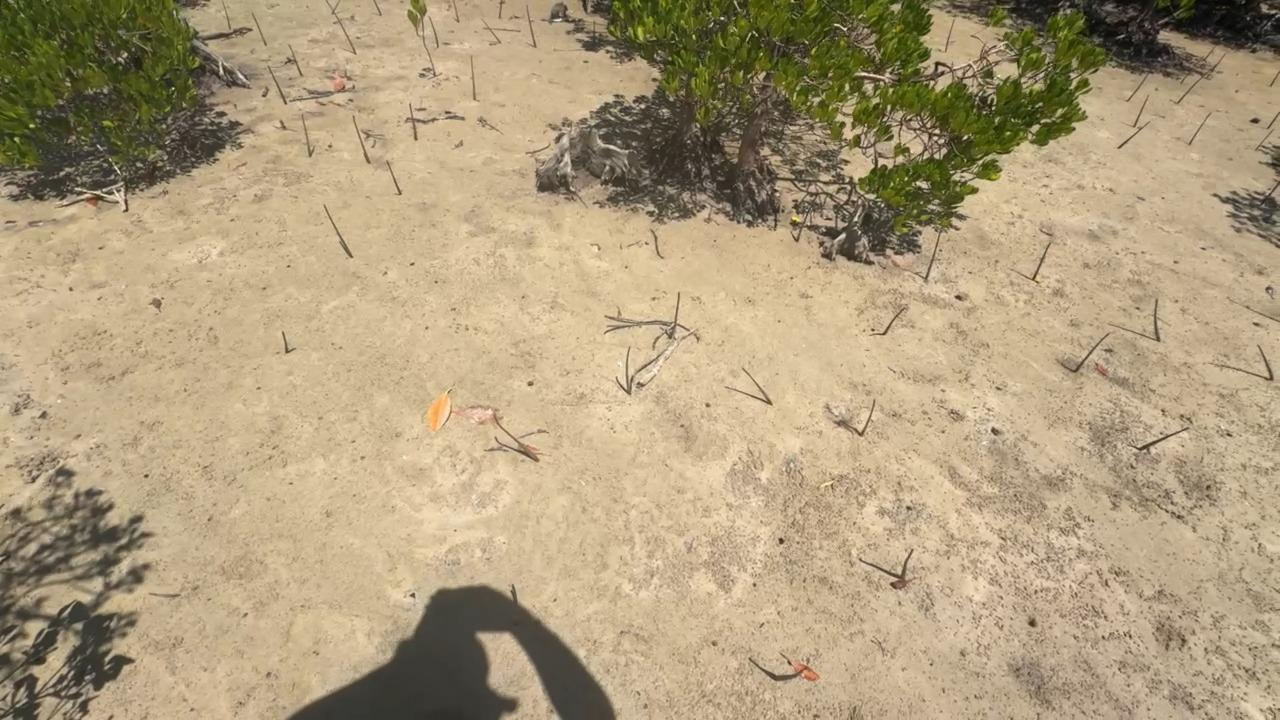Tree: (407, 0, 436, 77), (323, 0, 358, 55), (324, 202, 354, 259), (1073, 332, 1113, 374), (1174, 62, 1210, 104), (1139, 426, 1192, 452), (742, 367, 774, 407), (923, 230, 944, 283), (1116, 121, 1152, 150), (351, 114, 371, 165), (1030, 242, 1052, 283), (1186, 112, 1212, 146), (267, 63, 287, 105), (858, 399, 878, 439), (1126, 71, 1151, 103), (882, 306, 908, 335), (1256, 345, 1275, 383), (386, 160, 403, 196), (479, 18, 502, 44), (287, 45, 303, 80), (1132, 97, 1150, 128), (251, 12, 267, 46), (300, 113, 312, 158), (899, 548, 916, 578), (1254, 128, 1274, 151), (1153, 298, 1163, 343), (527, 2, 537, 47), (943, 19, 956, 52), (428, 15, 440, 49), (221, 0, 233, 31), (410, 102, 419, 142), (1208, 53, 1225, 74), (470, 53, 477, 100), (449, 0, 460, 23), (369, 0, 383, 16), (281, 328, 289, 355), (1269, 68, 1280, 87), (1268, 112, 1280, 128), (1180, 66, 1190, 85), (498, 1, 505, 18)
